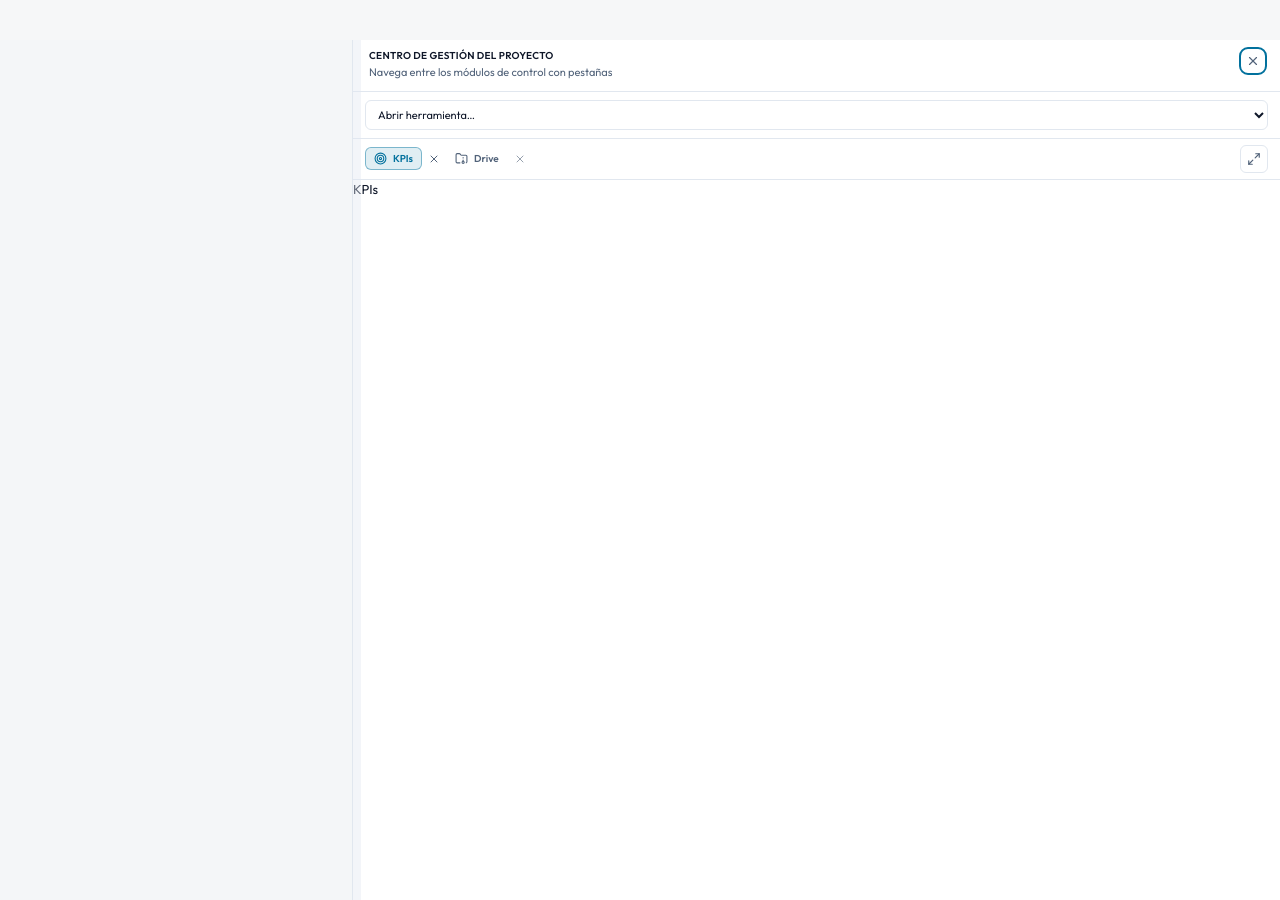
Test: ProjectManagementHubDrawer › alterna pantalla completa con Maximize2/Minimize2
The image size is (1280, 900).
Click the button named "Pantalla completa" at (1254, 158), box [1240,144,1268,172]
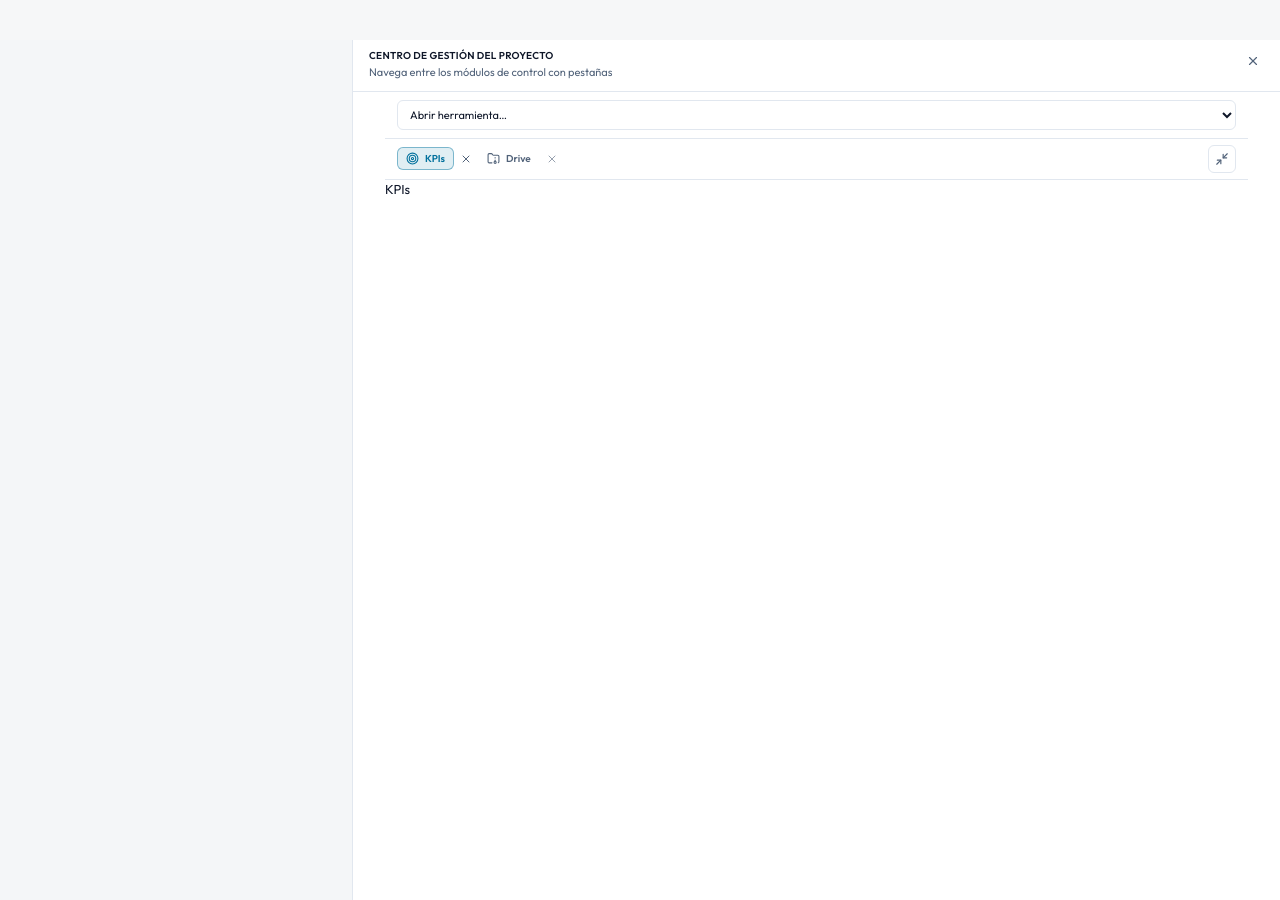
Now the button named "Salir de pantalla completa" is shown, box [1208,144,1236,172]
